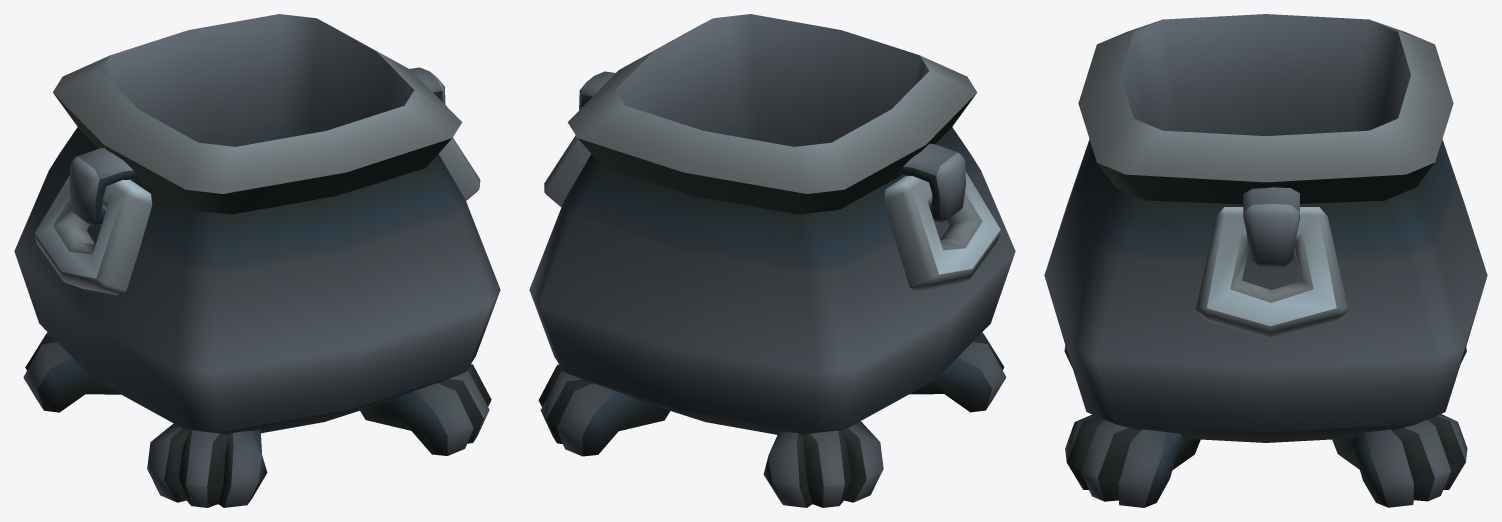
File: pot_large_empty.fbx
The picture shows the model from 3 angles, left to right: view 1: azimuth 30°, elevation 25°; view 2: azimuth 150°, elevation 25°; view 3: azimuth 270°, elevation 25°; orthographic projection. The views are drawn at different scales.
Parts seen in each view (by area): view 1: pot_large_empty; view 2: pot_large_empty; view 3: pot_large_empty.
Part boxes in pixels (bbox=[...]): pot_large_empty: bbox=[14, 14, 500, 507]; pot_large_empty: bbox=[529, 14, 1015, 507]; pot_large_empty: bbox=[1044, 14, 1487, 507].
Bounding box in the file's own units: 96.94 × 78.31 × 89.19.
